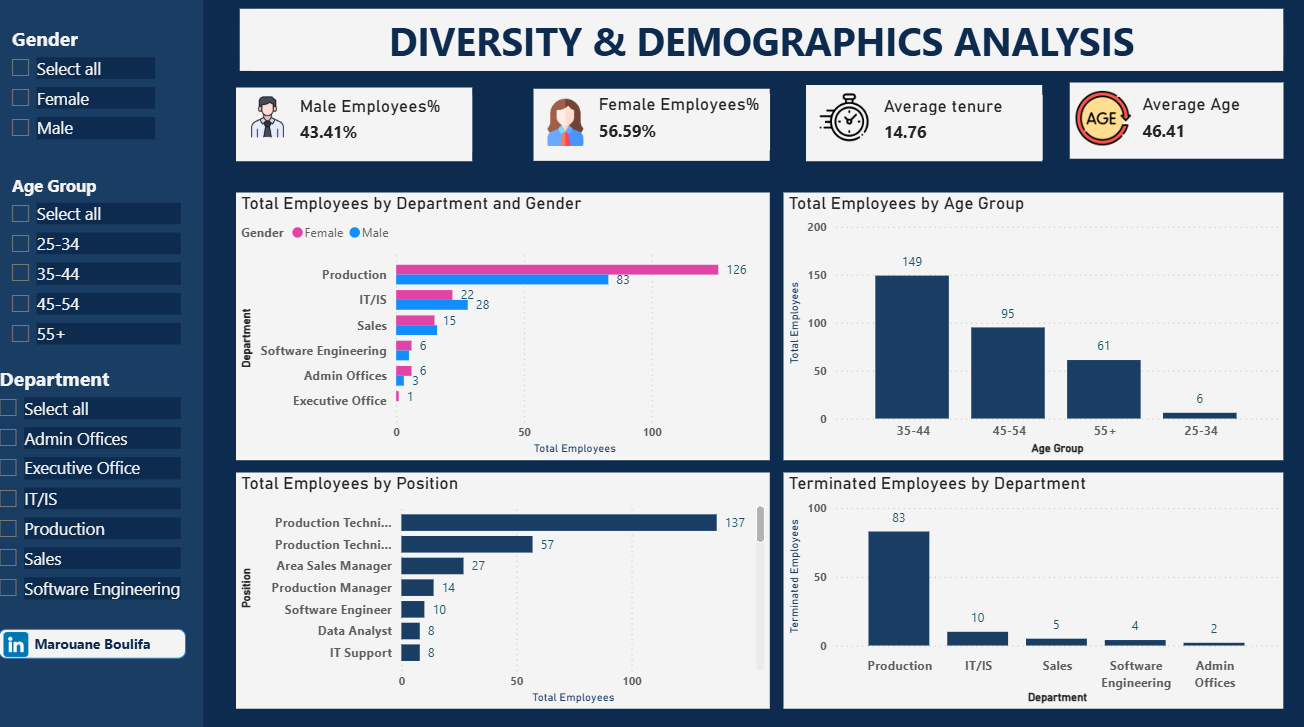

The page's visual inventory and layout, read from the dashboard file:
{"tool":"powerbi","page":{"name":"DIVERSITY & DEMOGRAPHICS ANALYSIS","canvas":[1280,720],"ordinal":3},"visuals":[{"type":"shape","box":[0,0,209.9,720.2],"z":0,"group":"g1"},{"type":"shape","box":[241.3,89.3,228,71.2],"z":0},{"type":"shape","box":[528.4,90.5,228,70],"z":1000},{"type":"slicer","fields":{"Values":["HRDataset_v14.Department"]},"box":[0,352.3,193,241.3],"z":1000,"group":"g1"},{"type":"slicer","fields":{"Values":["HRDataset_v14.Gender"]},"box":[12.2,24.5,156.5,141.8],"z":2000,"group":"g1"},{"type":"shape","box":[791.4,86.9,228,73.6],"z":2000},{"type":"shape","box":[1046,84.5,206.3,73.6],"z":3000},{"type":"multiRowCard","title":"Female Employees%","fields":{"Values":["Calendar.% Female Employees"]},"box":[586.3,95.3,170.1,54.3],"z":4000},{"type":"multiRowCard","title":"Male Employees%","fields":{"Values":["Calendar.% Male Employees"]},"box":[298,96.5,171.3,54.3],"z":5000},{"type":"multiRowCard","title":"Average Age","fields":{"Values":["Calendar.Average Age"]},"box":[1111.1,95.3,132.7,57.9],"z":6000},{"type":"multiRowCard","title":"Average tenure","fields":{"Values":["Calendar.Average Tenure"]},"box":[861.4,96.5,158,62.7],"z":7000},{"type":"clusteredBarChart","fields":{"Y":["HRDataset_v14.Total Employees"],"Category":["HRDataset_v14.Department"],"Series":["HRDataset_v14.Gender"]},"box":[241.3,190.6,515.2,258.2],"z":8000},{"type":"clusteredColumnChart","fields":{"Category":["HRDataset_v14.Age Group"],"Y":["HRDataset_v14.Total Employees"]},"box":[769.7,190.6,482.6,258.2],"z":9000},{"type":"barChart","fields":{"Y":["HRDataset_v14.Total Employees"],"Category":["HRDataset_v14.Position"]},"box":[241.3,460.9,515.2,228],"z":10000},{"type":"columnChart","fields":{"Y":["Calendar.Terminated Employees"],"Category":["HRDataset_v14.Department"]},"box":[769.7,460.9,482.6,228],"z":11000},{"type":"group","id":"g1","title":"Slicer Pane","box":[0,0,209.9,720.2],"z":12000},{"type":"slicer","fields":{"Values":["HRDataset_v14.Age Group"]},"box":[12.2,167.5,181,184.6],"z":13000},{"type":"shape","box":[244.9,13.3,1007.4,60.3],"z":14000},{"type":"image","box":[244.9,92.9,53.1,49.5],"z":15000},{"type":"image","box":[528.4,95.3,61.5,55.5],"z":16000},{"type":"image","box":[0,608,66.4,36.2],"z":16506,"group":"g1"},{"type":"image","box":[1046,86.9,65.1,63.9],"z":17000},{"type":"shape","box":[12.1,611.7,181,29],"z":18000},{"type":"image","box":[795,89.3,66.4,57.9],"z":19000},{"type":"image","box":[12.1,609.3,33.8,35],"z":20000}]}

Visuals, with their boxes in screenshot pixels (x1, y1, x2, y2), scaled from the page's 1280x720 canvas onto the 1304x727 screenshot:
shape: 0:0:214:726
shape: 246:90:478:162
shape: 538:91:771:162
slicer - HRDataset_v14.Department: 0:356:197:599
slicer - HRDataset_v14.Gender: 12:25:172:168
shape: 806:88:1039:162
shape: 1066:85:1276:160
"Female Employees%" multiRowCard: 597:96:771:151
"Male Employees%" multiRowCard: 304:97:478:152
"Average Age" multiRowCard: 1132:96:1267:155
"Average tenure" multiRowCard: 878:97:1039:161
clusteredBarChart - HRDataset_v14.Total Employees x HRDataset_v14.Department: 246:192:771:453
clusteredColumnChart - HRDataset_v14.Age Group x HRDataset_v14.Total Employees: 784:192:1276:453
barChart - HRDataset_v14.Total Employees x HRDataset_v14.Position: 246:465:771:696
columnChart - Calendar.Terminated Employees x HRDataset_v14.Department: 784:465:1276:696
"Slicer Pane" group: 0:0:214:726
slicer - HRDataset_v14.Age Group: 12:169:197:356
shape: 249:13:1276:74
image: 249:94:304:144
image: 538:96:601:152
image: 0:614:68:650
image: 1066:88:1132:152
shape: 12:618:197:647
image: 810:90:878:149
image: 12:615:47:651
